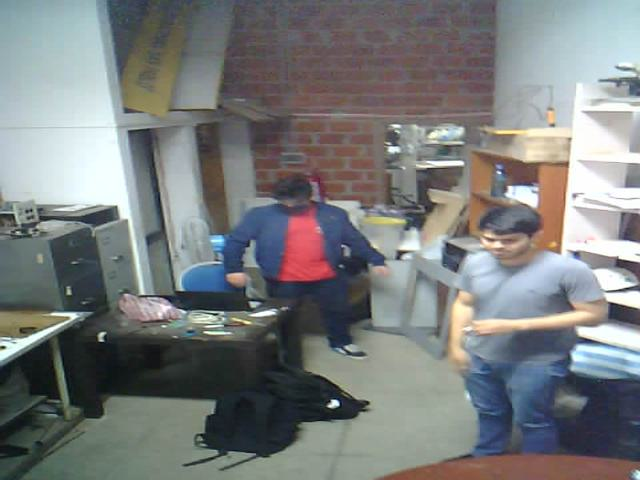person: (431, 186, 624, 464), (192, 140, 387, 372)
